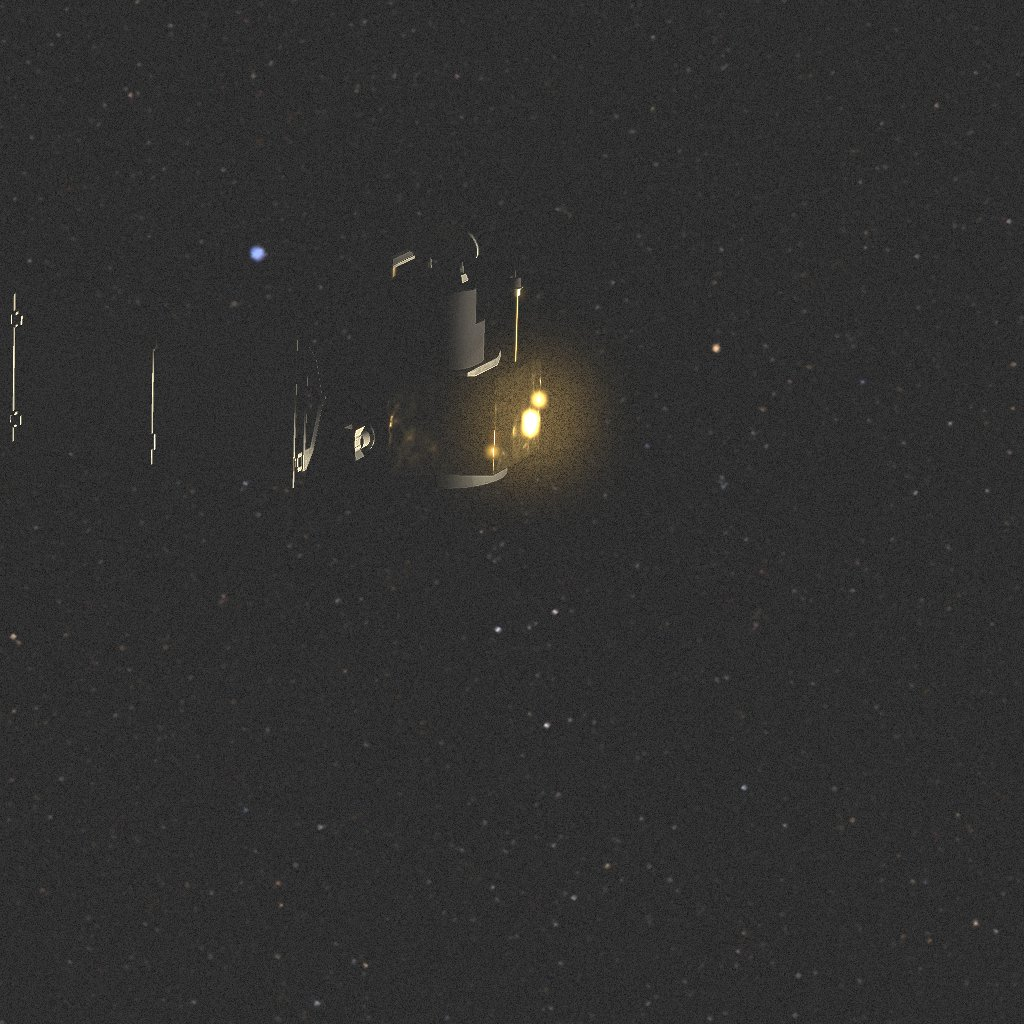earth_observation_sat_1: (0, 222, 542, 489)
